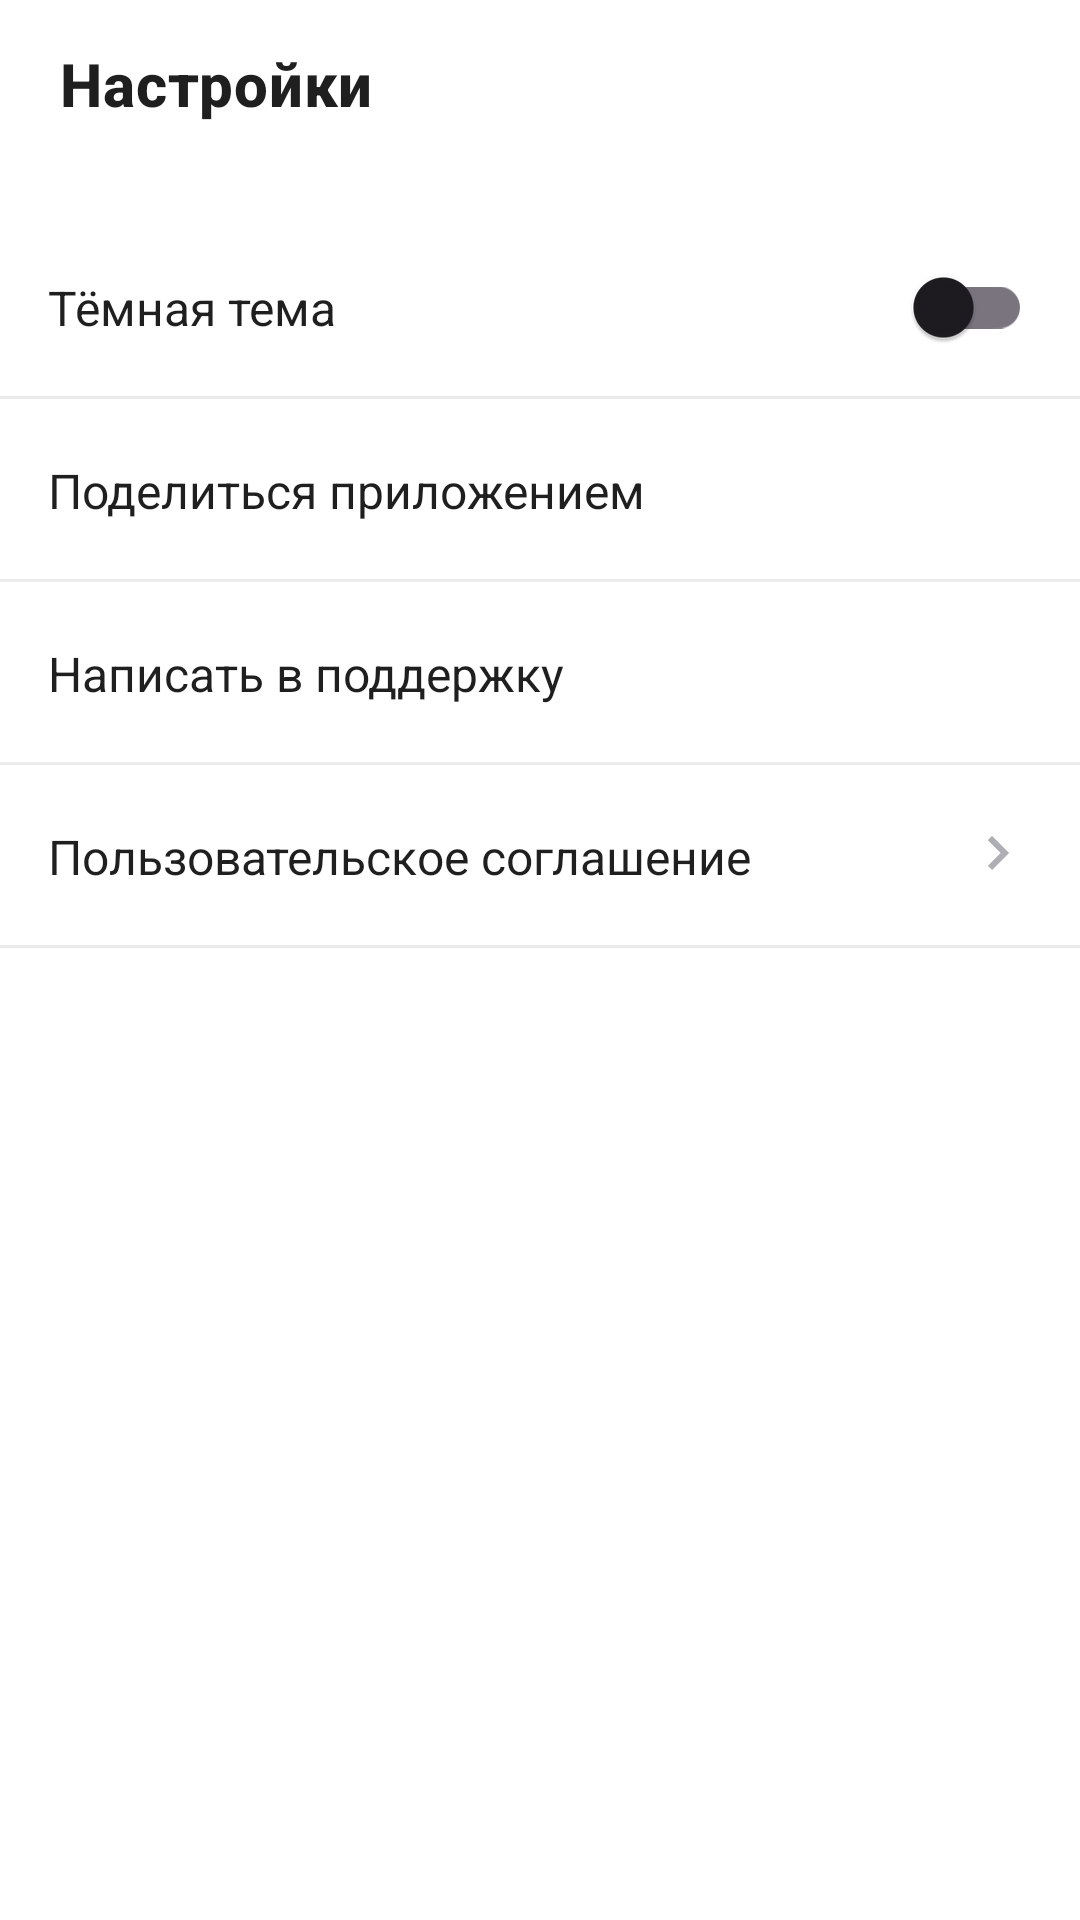

Icons on this 1080w x 1920h Android screen, each with the point to tap as (x,y):
chevron right: (998,853)
